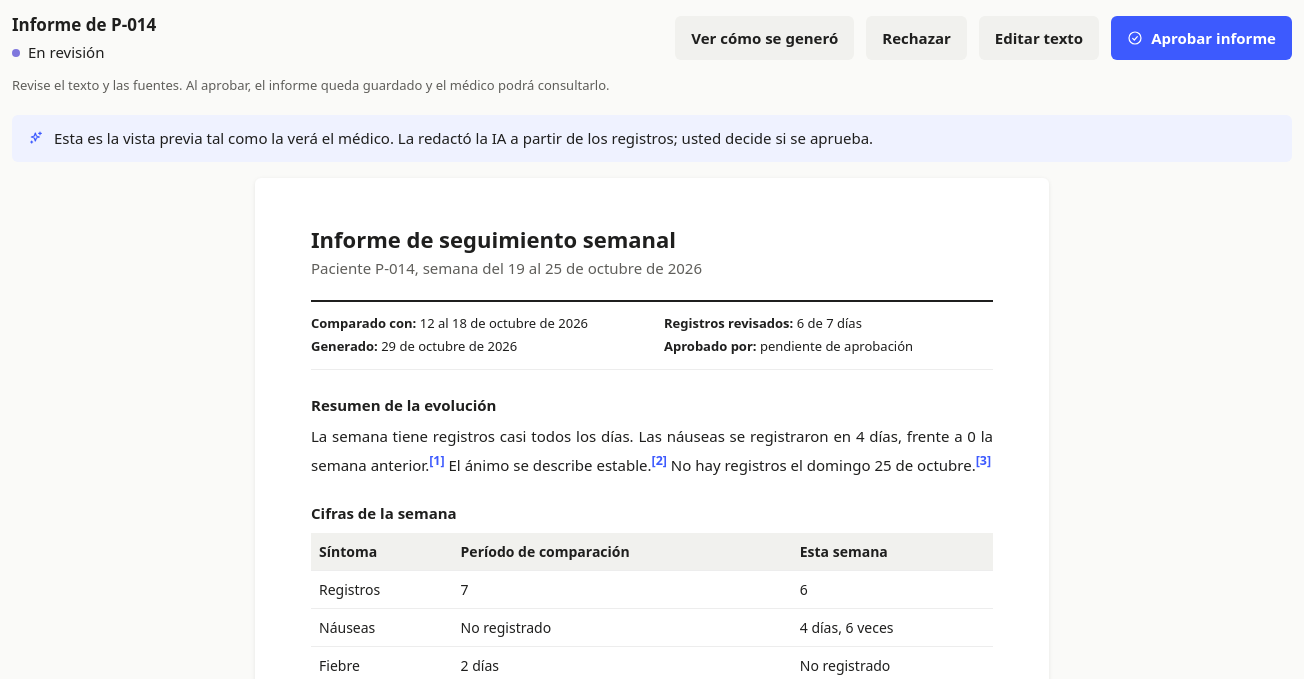
Scenario: ReportViewComponent (vInfVer y hojaHTML del mockup) › edicion › un rechazo del servidor (422) se muestra junto al campo que lo causo y conserva lo escrito
Click the button "Editar texto". click: (1039, 38)
box: [979,16,1099,60]
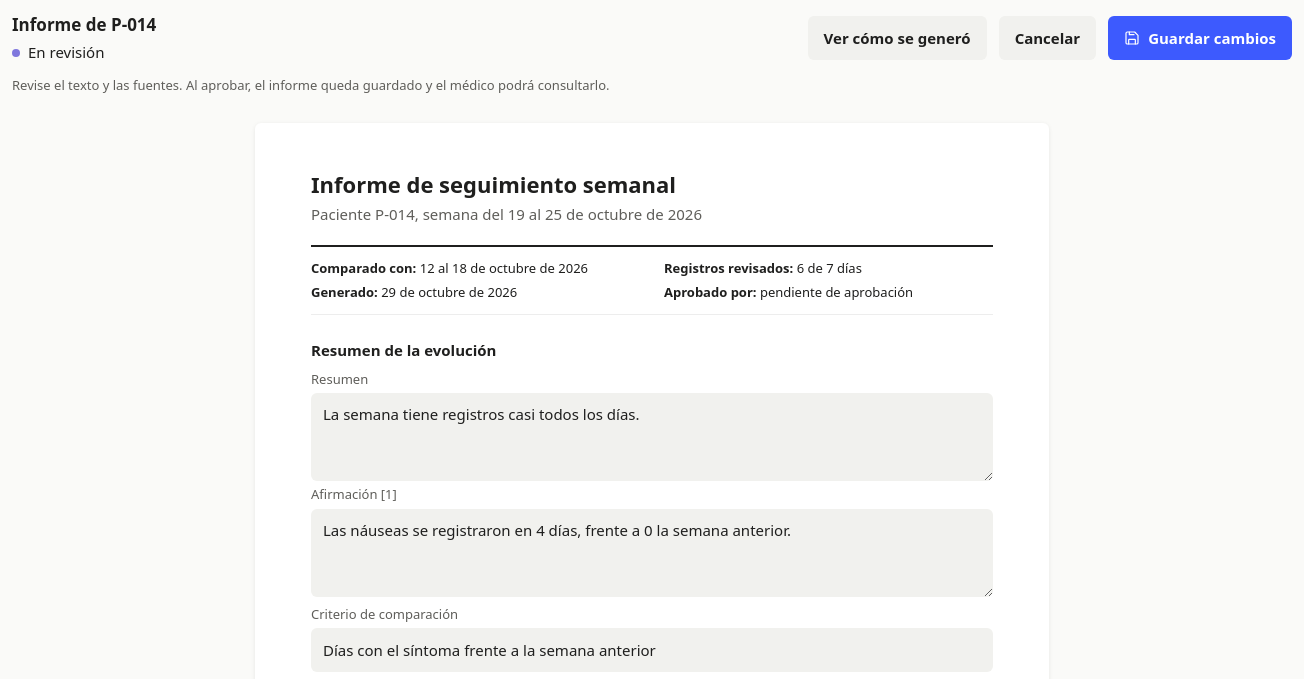
Replace the text in the text box with id "ie-texto-0" with "Parece una infección.". click: (652, 553)
box: [311,509,993,597]
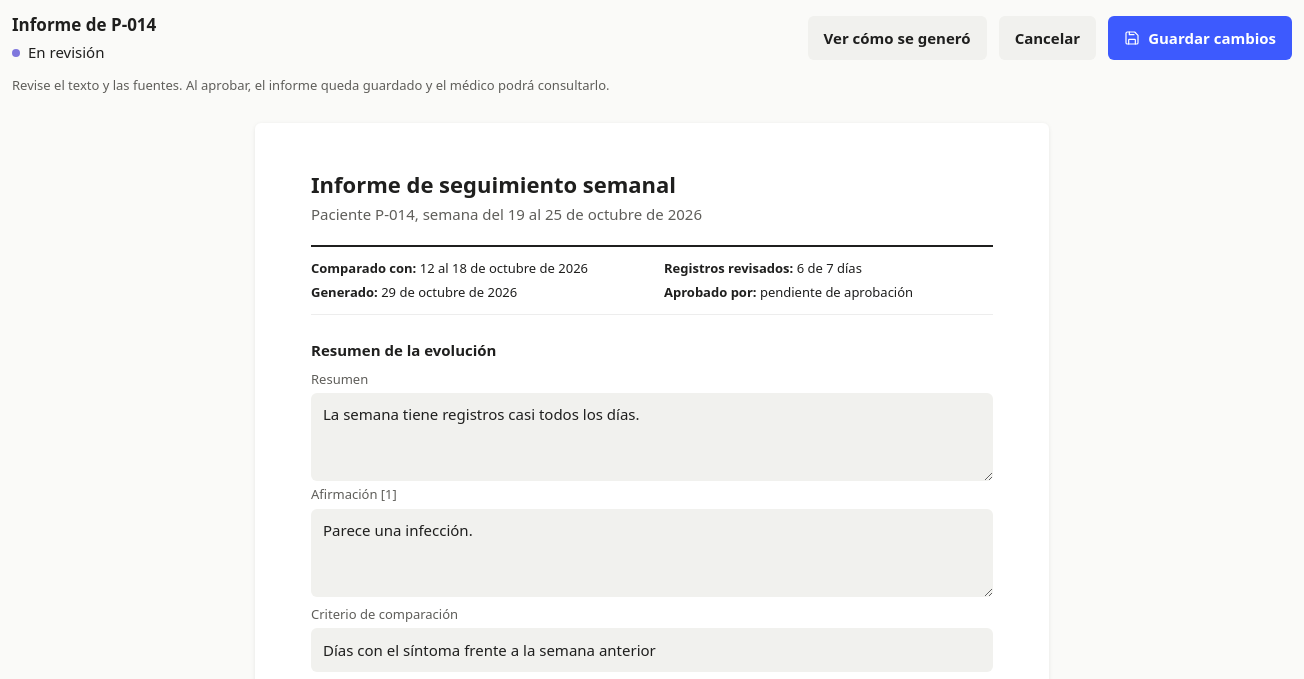
Click the button "Guardar cambios". click: (1200, 38)
box: [1108,16,1292,60]
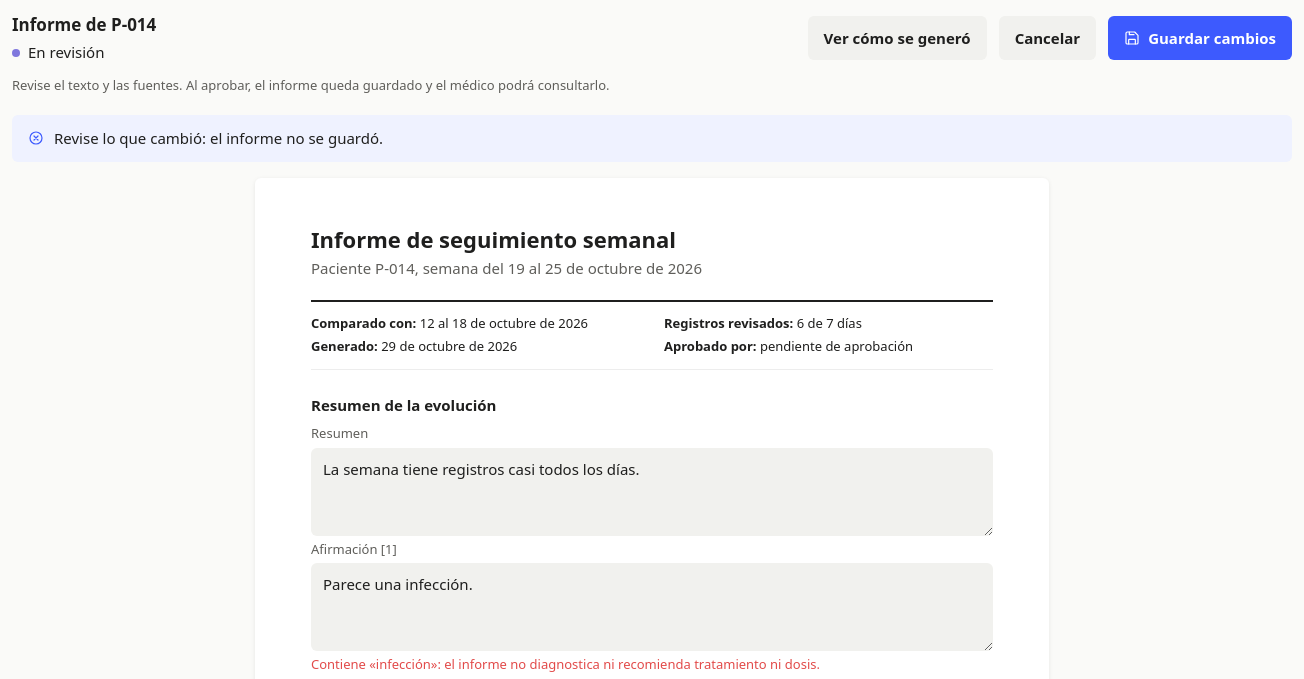
Now the button "Guardar cambios" is shown, box [1108,16,1292,60]
Now the text "Contiene «infección»" is shown, box [311,655,820,673]
